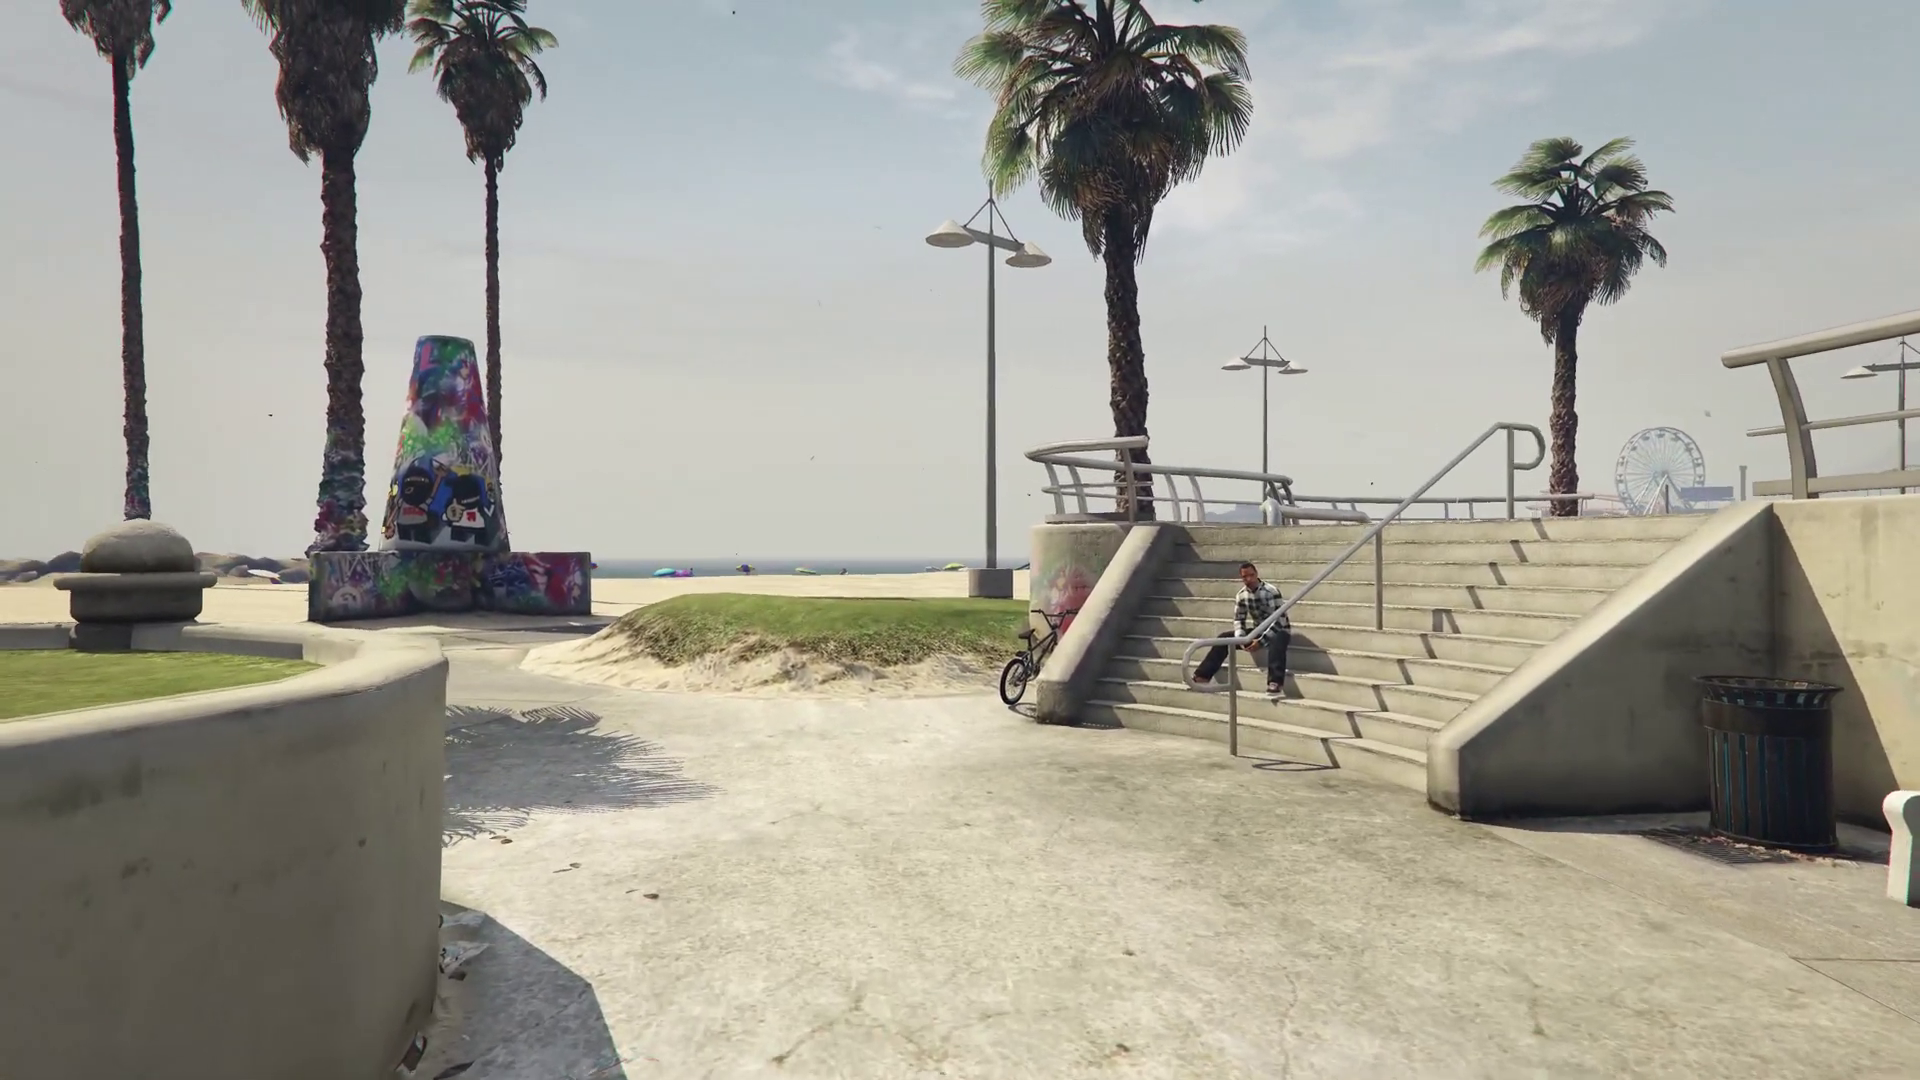person: (1189, 564, 1289, 701)
